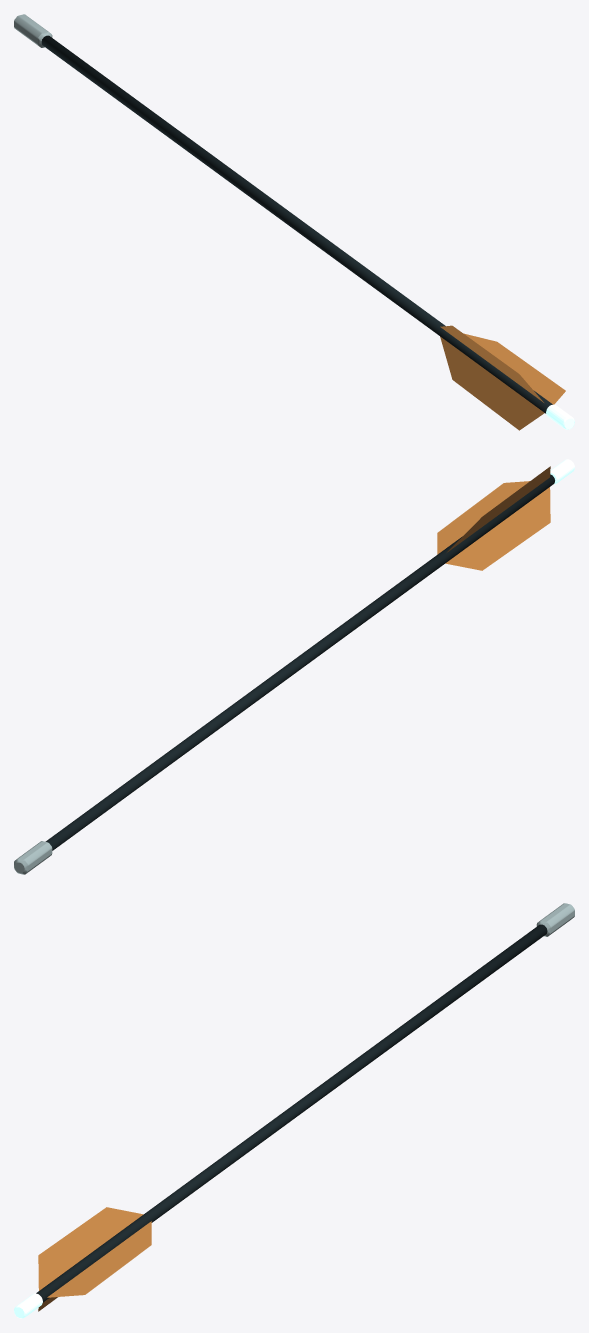
Rendered from club-arrow.high.glb.
3 renders of one model, top to bottom at view 1: azimuth 30°, elevation 25°; view 2: azimuth 150°, elevation 25°; view 3: azimuth 330°, elevation 25°, orthographic.
Visible parts, largest first — view 1: geometry:body:0, geometry:body:1, geometry:body:3; view 2: geometry:body:0, geometry:body:1, geometry:body:3; view 3: geometry:body:0, geometry:body:1, geometry:body:3.
Part boxes in pixels (x1,y1,x2,y2): geometry:body:0: [41, 35, 552, 413]; geometry:body:1: [440, 325, 565, 430]; geometry:body:3: [14, 14, 52, 47]; geometry:body:0: [45, 474, 554, 850]; geometry:body:1: [437, 466, 550, 570]; geometry:body:3: [14, 841, 52, 874]; geometry:body:0: [36, 924, 547, 1302]; geometry:body:1: [38, 1207, 151, 1311]; geometry:body:3: [536, 903, 574, 936].
Bounding box in the file's own units: 0.036 × 0.0416 × 0.732.
